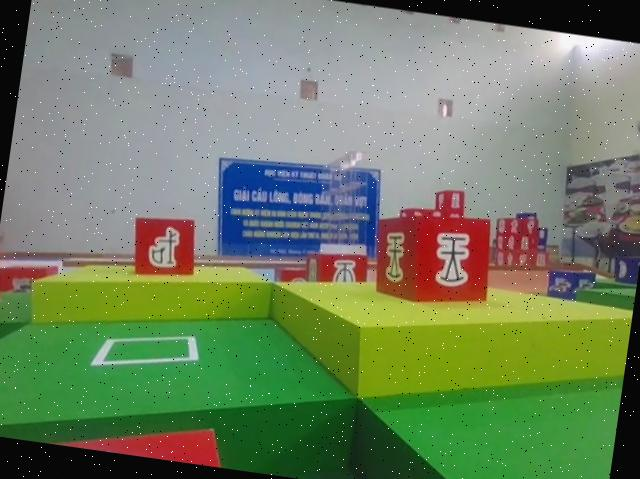R2 Real: (367, 210, 495, 310), (126, 209, 204, 283)
